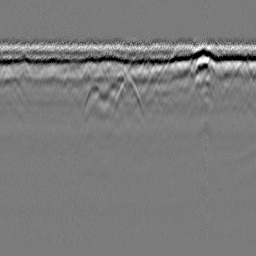cavity: (111, 72, 143, 116)
